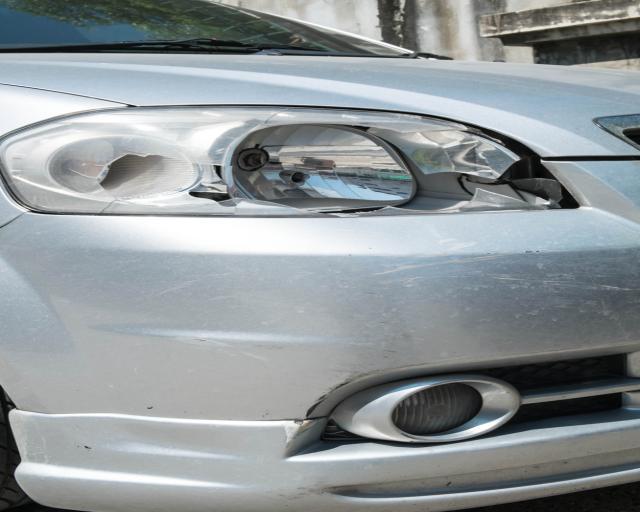lamp broken: (0, 106, 583, 218)
scratch: (294, 238, 640, 427)
